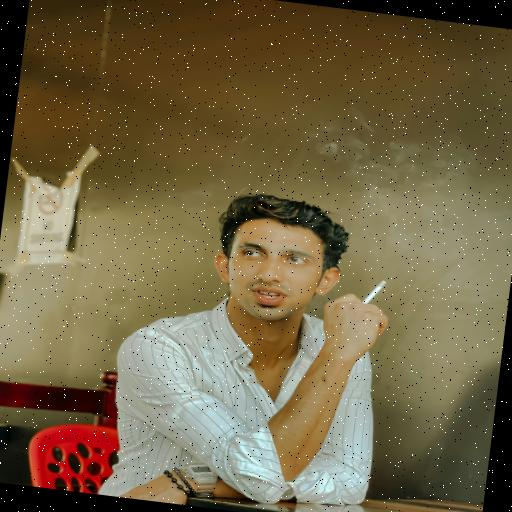terdeteksi pegang rokok: (303, 252, 414, 368)
